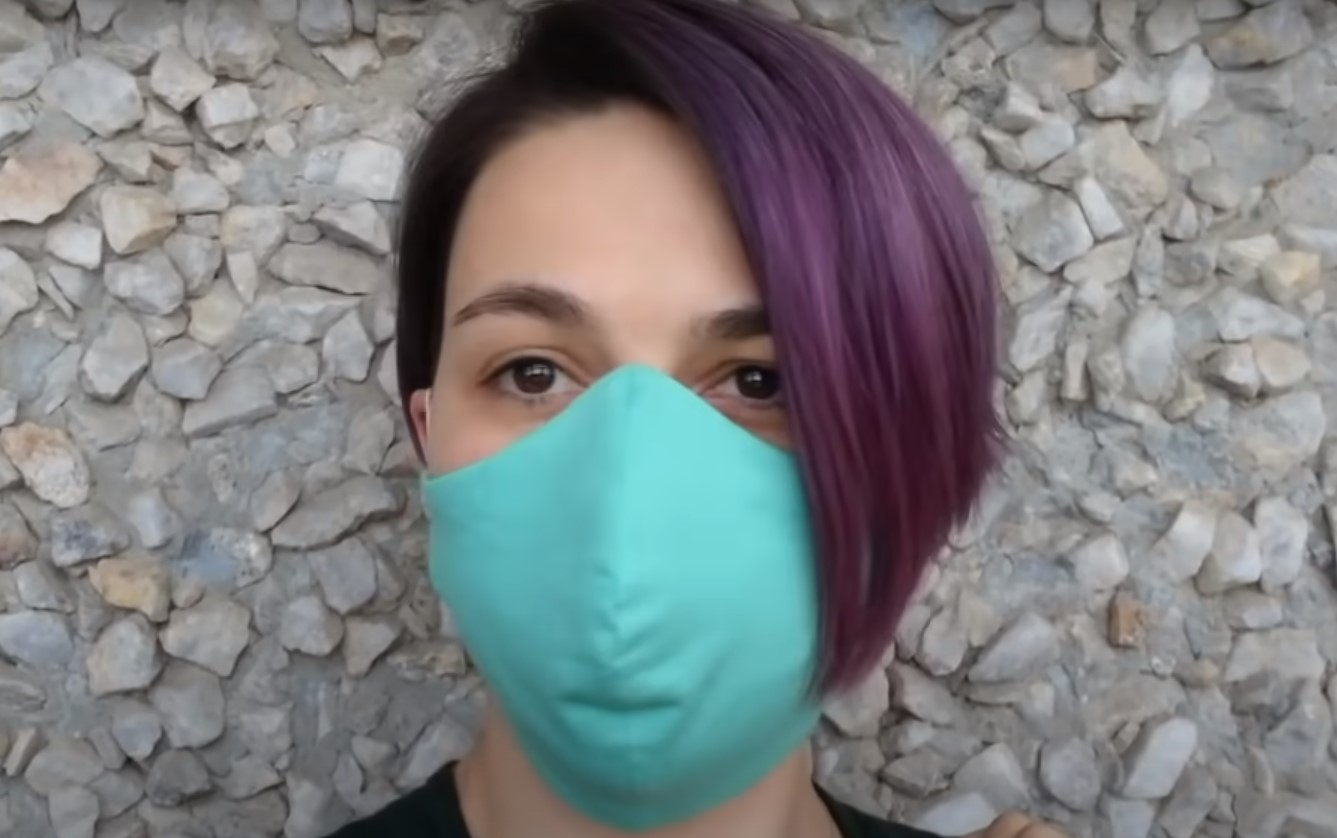face_with_mask: (391, 9, 1004, 828)
